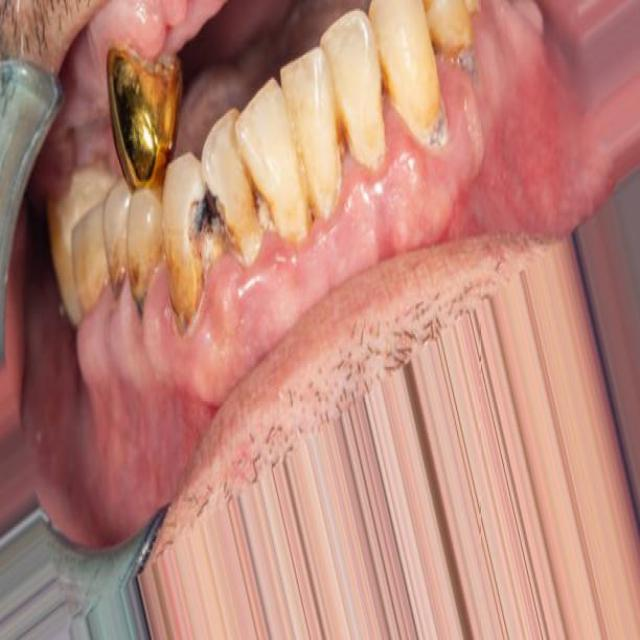caries: (184, 188, 244, 284)
